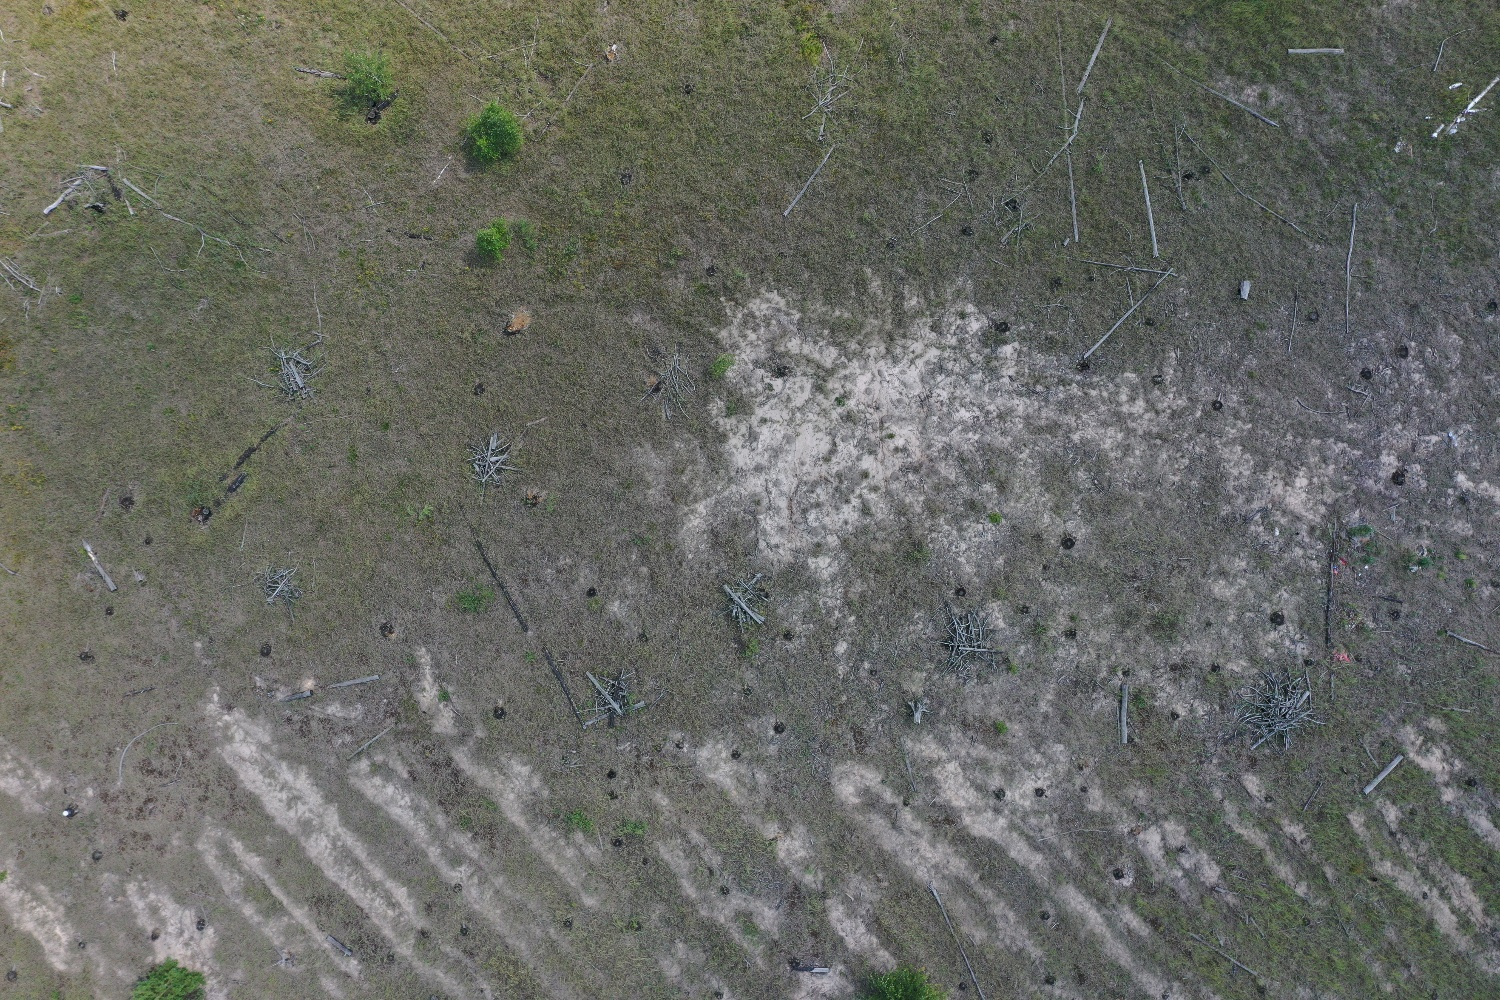branches: (1232, 669, 1327, 754), (932, 604, 1000, 677), (584, 669, 648, 730), (721, 573, 778, 633), (254, 562, 305, 625), (273, 339, 321, 402), (467, 434, 519, 487)
